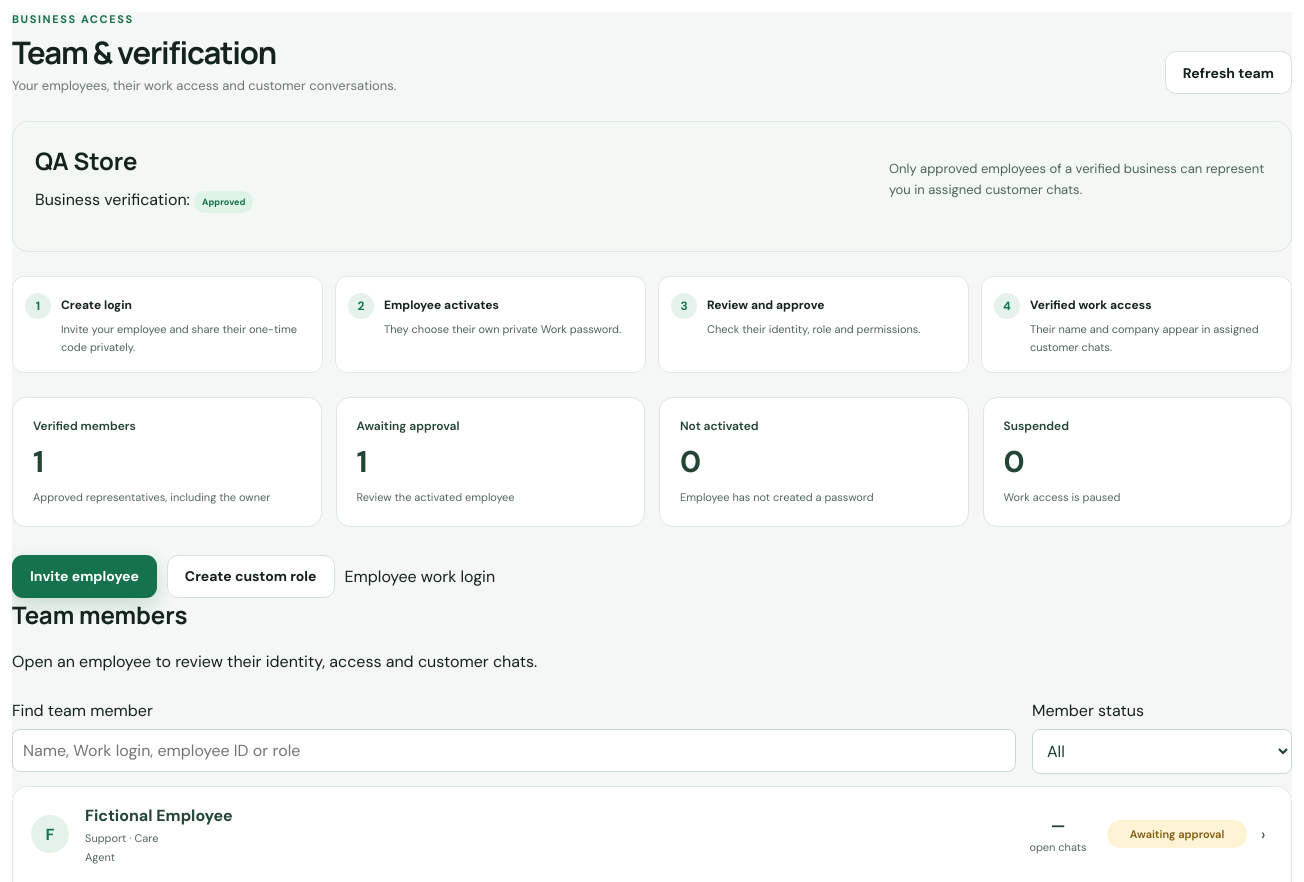
Test: team UI boundaries › searches by the exact work identifier without changing a membership
Expected: the text "Fictional Employee" is shown, [85, 805, 233, 826]
Type "absent.employee" into the search field labelled "Find team member".
click(514, 750); type("absent.employee")  # box [12, 729, 1016, 772]
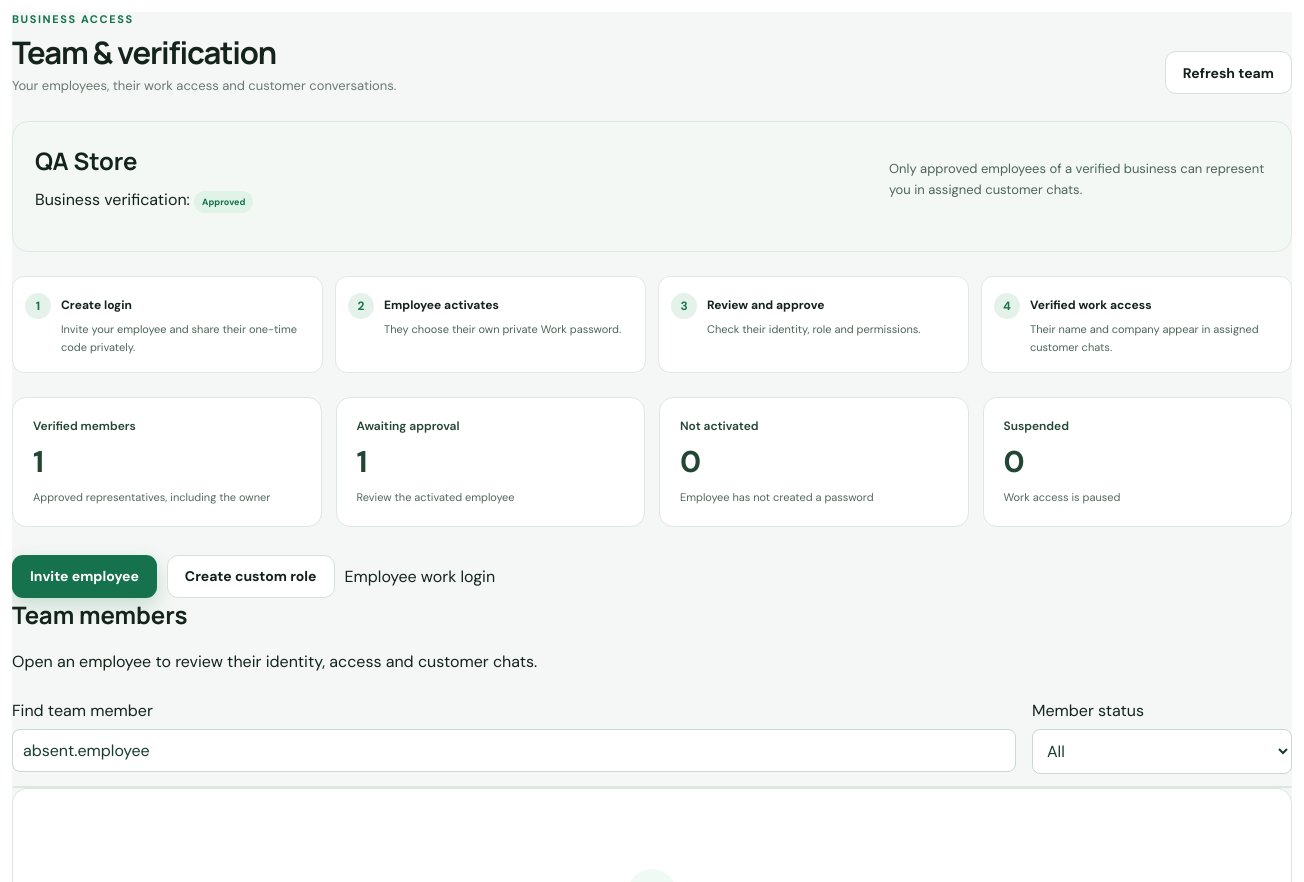
Replace the text in the search field labelled "Find team member" with "qa.employee" at (514, 750), box [12, 729, 1016, 772]
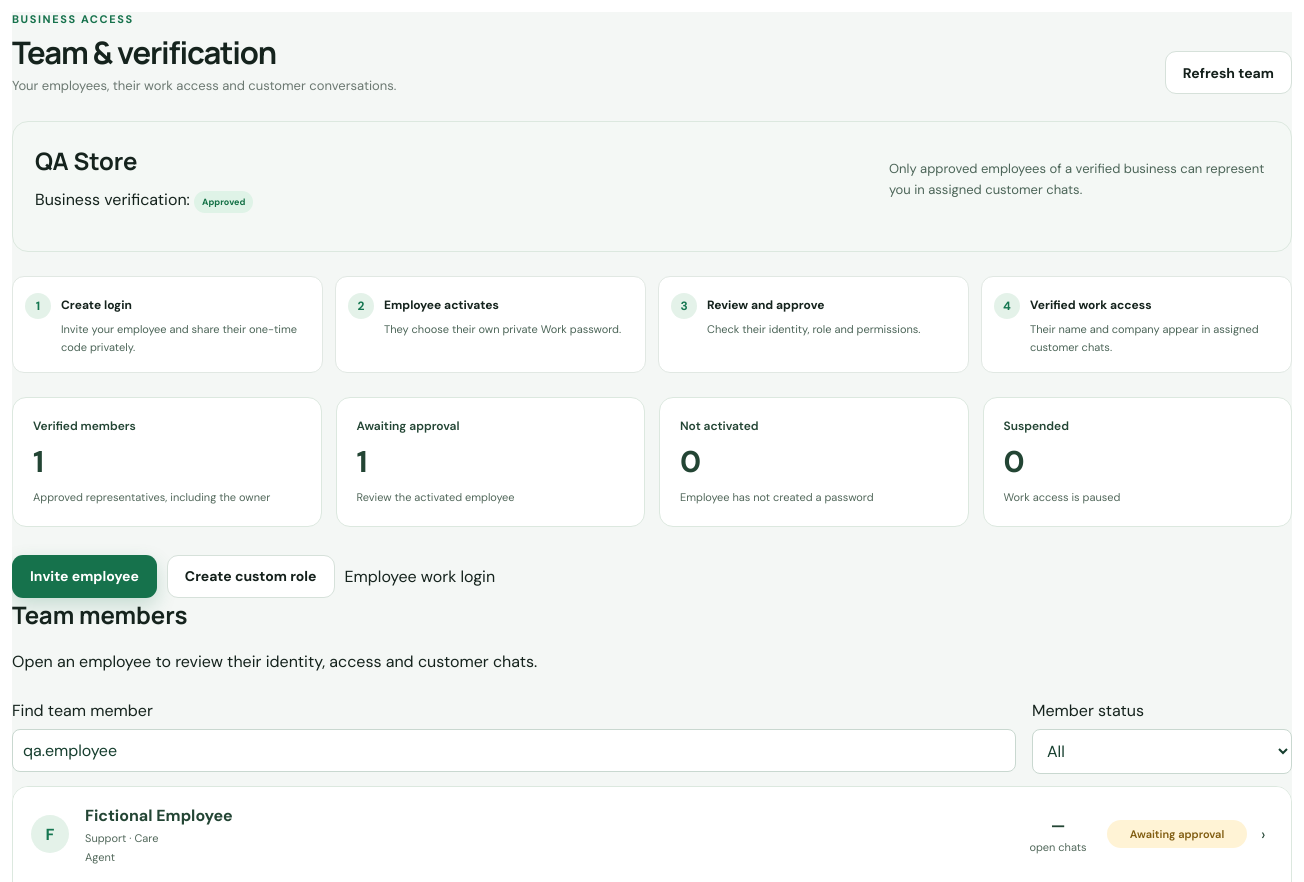
Now the text "Fictional Employee" is shown, box [85, 805, 233, 826]
